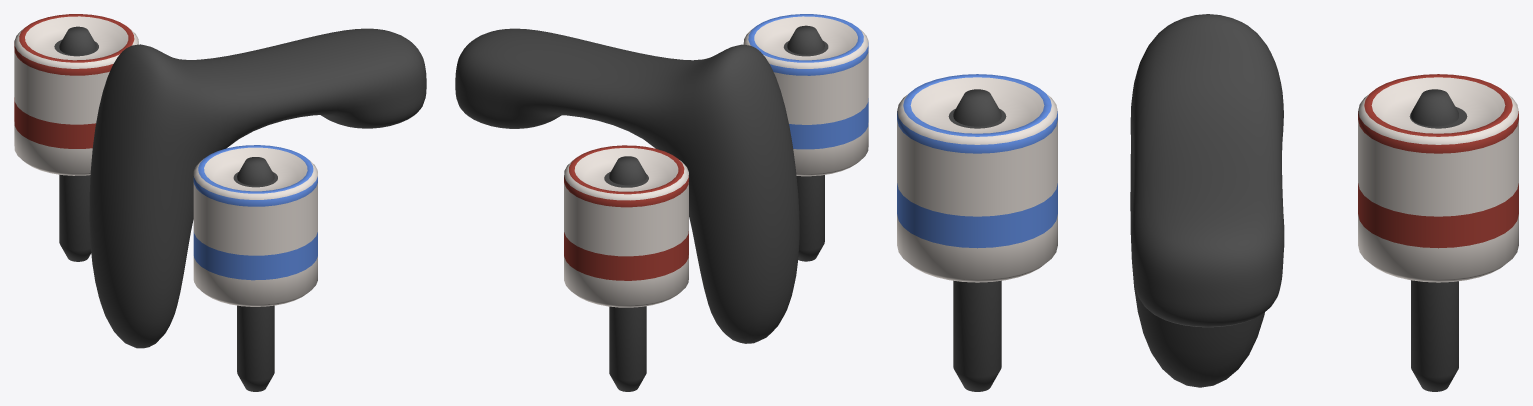
File: water tap.fbx
3 renders of one model, left to right at view 1: azimuth 30°, elevation 25°; view 2: azimuth 150°, elevation 25°; view 3: azimuth 270°, elevation 25°, orthographic. The views are drawn at different scales.
Parts seen in each view (by area): view 1: water tap; view 2: water tap; view 3: water tap.
Part boxes in pixels (x1,y1,x2,y2): water tap: [14, 14, 426, 391]; water tap: [455, 14, 868, 391]; water tap: [897, 14, 1518, 391].
Size of the model in its own units: 14.85 by 12.9 by 19.34.
